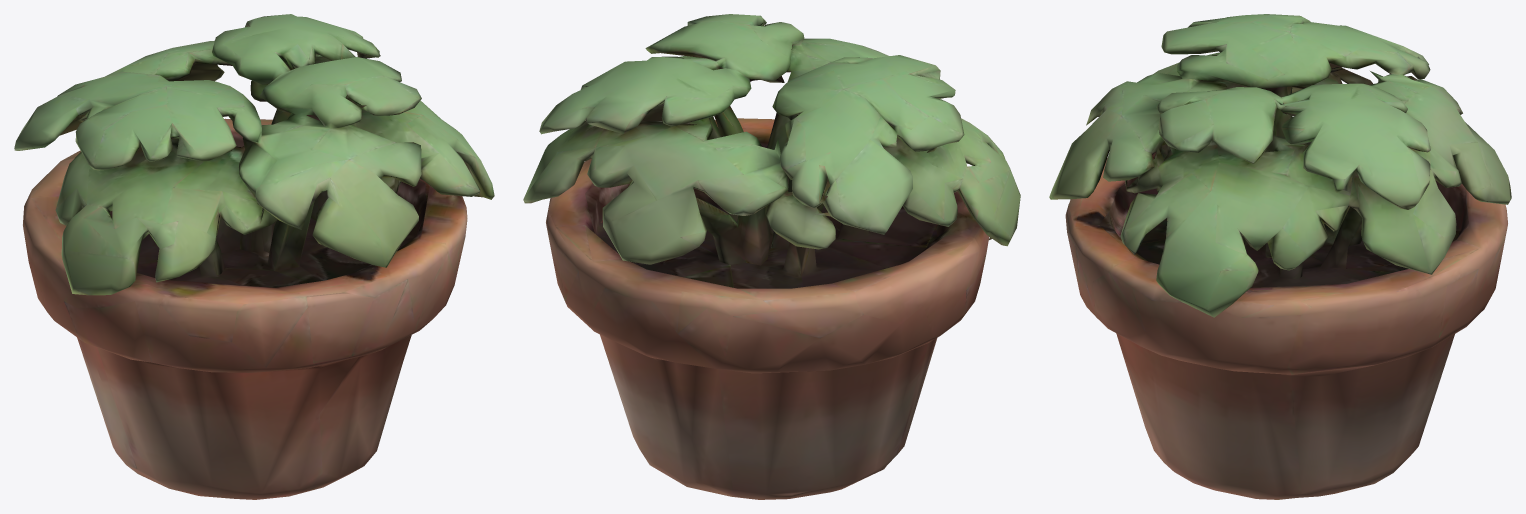
The model's file is monstera.glb.
3 views of the same model, side by side, from view 1: azimuth 30°, elevation 25°; view 2: azimuth 150°, elevation 25°; view 3: azimuth 270°, elevation 25° (orthographic).
Bounding box in the file's own units: 2 × 1.8 × 1.96.
1 material, 1 textured.
